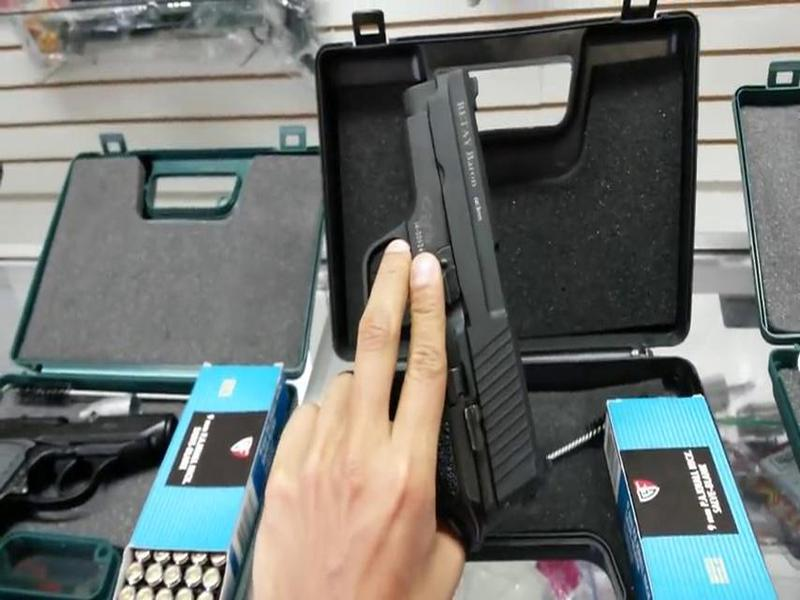Pistola: (256, 44, 579, 547)
